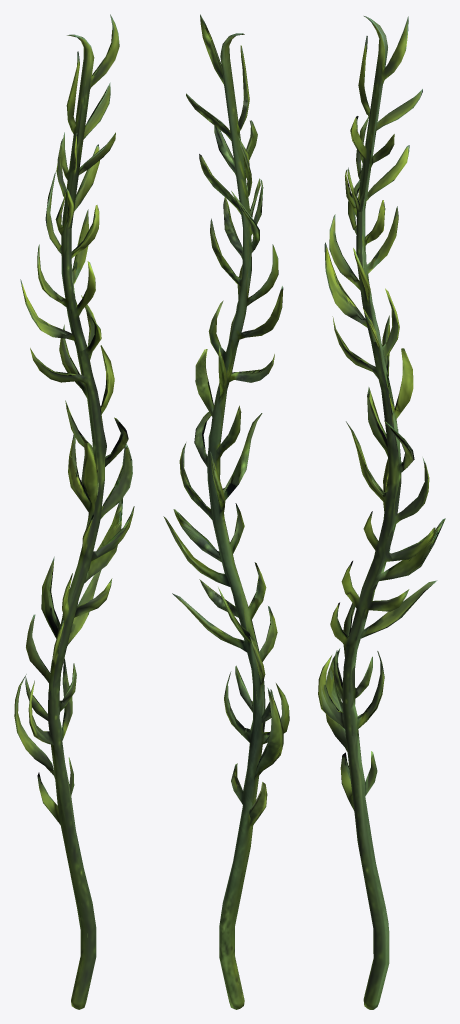
Rendered from simplified_aglae2.fbx.
3 renders of one model, left to right at view 1: azimuth 30°, elevation 25°; view 2: azimuth 150°, elevation 25°; view 3: azimuth 330°, elevation 25°, orthographic.
Parts seen in each view (by area): view 1: mesh_rep_0_ori_repair; view 2: mesh_rep_0_ori_repair; view 3: mesh_rep_0_ori_repair.
Part boxes in pixels (x1,y1,x2,y2): mesh_rep_0_ori_repair: (14,14,134,1009); mesh_rep_0_ori_repair: (163,14,289,1009); mesh_rep_0_ori_repair: (318,16,445,1009).
Size of the model in its own units: 12.12 by 100 by 6.62.
